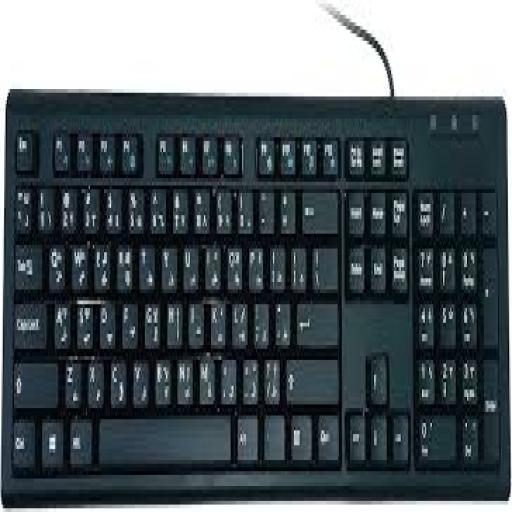keyboard: (0, 89, 511, 501)
